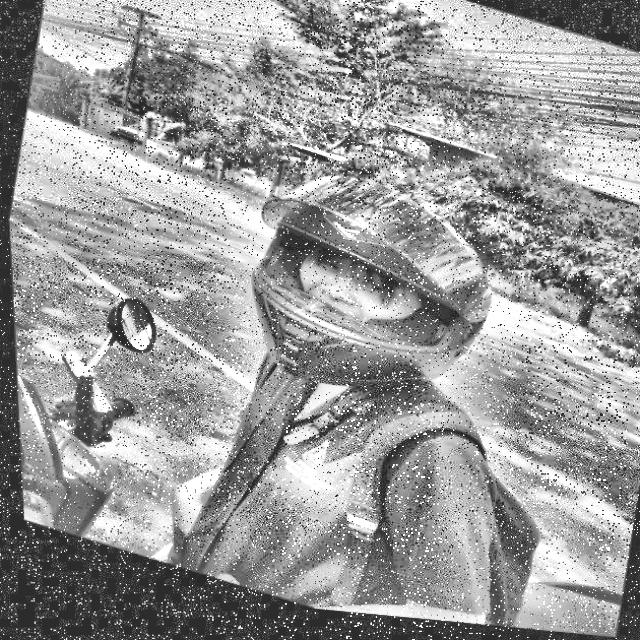Helmet: (215, 147, 520, 445)
